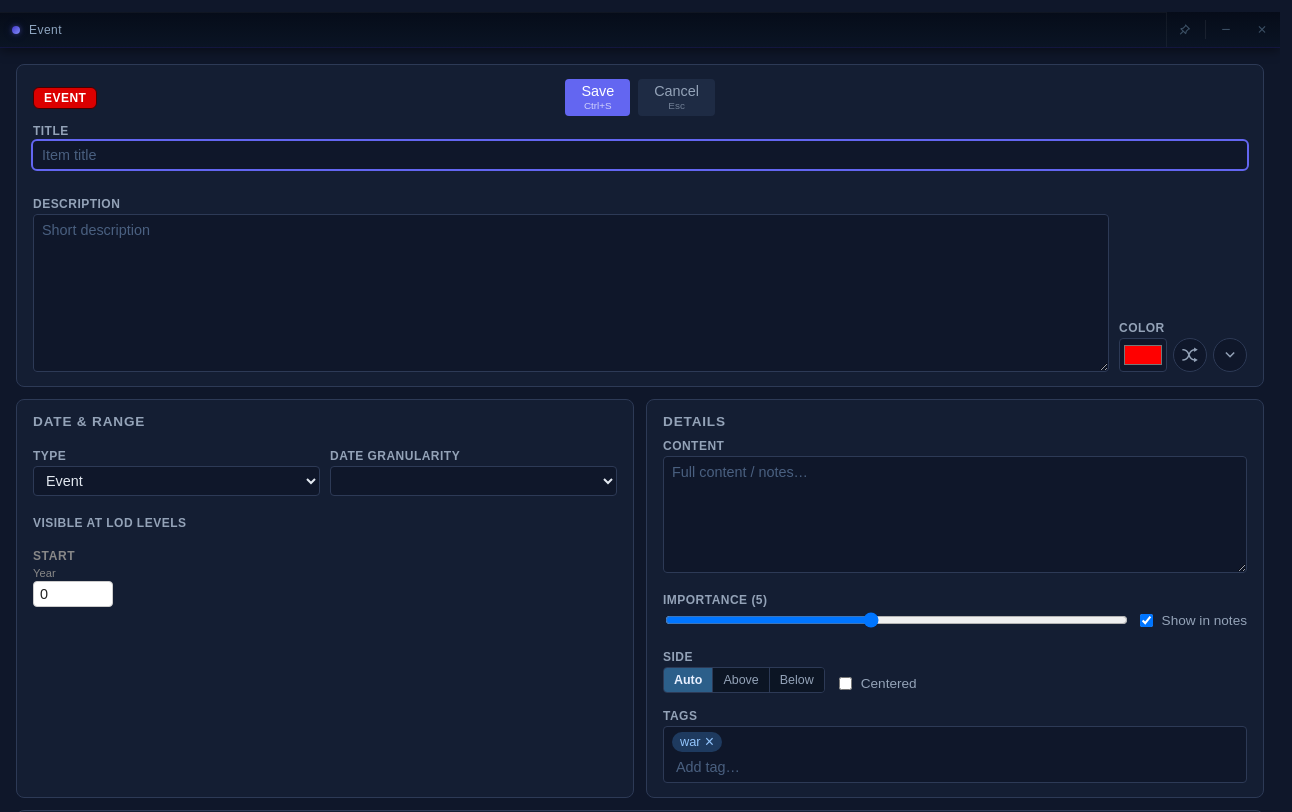
Scenario: EditItem page › shows the save error message when SaveItem returns an error
Click the button "Save Ctrl+S". click: (598, 98)
box: [565, 79, 630, 116]
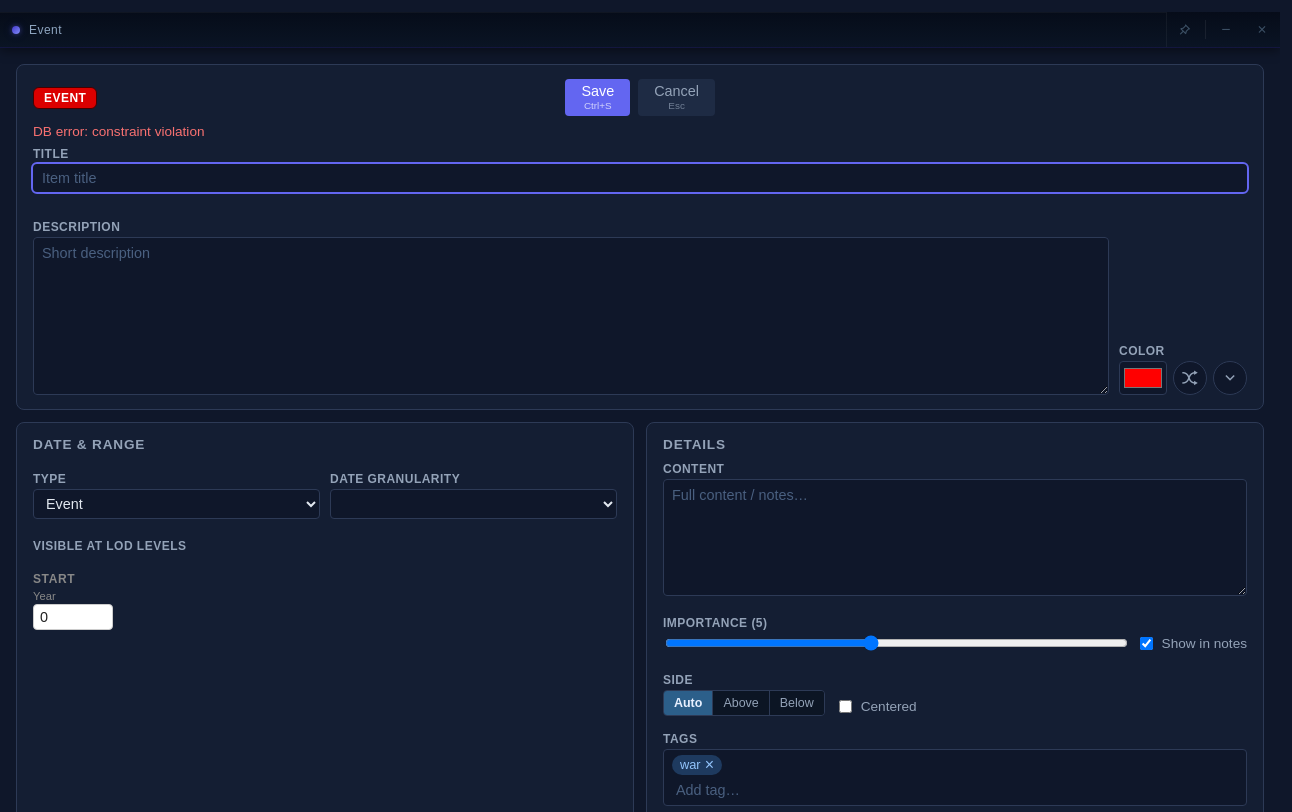
Expected: the text with class "save-error" reads "DB error: constraint violation", [33, 124, 204, 139]
